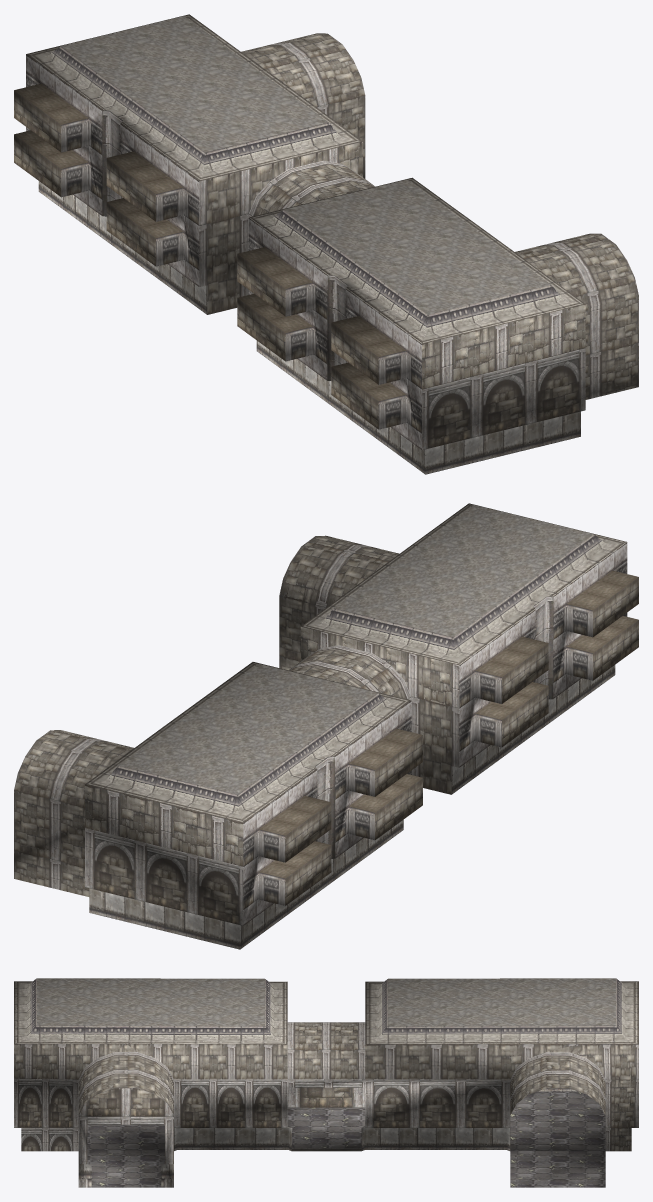
File: stormwind_145.fbx
3 views of the same model, one above another, from view 1: azimuth 30°, elevation 25°; view 2: azimuth 150°, elevation 25°; view 3: azimuth 270°, elevation 25° (orthographic). The views are drawn at different scales.
Parts seen in each view (by area): view 1: stormwind_145_159, stormwind_145_161, stormwind_145_153, stormwind_145_163, stormwind_145_152, stormwind_145_162, stormwind_145_154, stormwind_145_155; view 2: stormwind_145_159, stormwind_145_161, stormwind_145_153, stormwind_145_163, stormwind_145_152, stormwind_145_162, stormwind_145_154, stormwind_145_155; view 3: stormwind_145_159, stormwind_145_152, stormwind_145_161, stormwind_145_157, stormwind_145_153, stormwind_145_154.
Part boxes in pixels (x1,y1,x2,y2): stormwind_145_159: (199,33,638,399); stormwind_145_161: (61,16,550,314); stormwind_145_153: (26,14,584,343); stormwind_145_163: (26,54,421,449); stormwind_145_152: (102,110,585,449); stormwind_145_162: (14,90,378,429); stormwind_145_154: (38,181,580,474); stormwind_145_155: (14,83,405,401); stormwind_145_159: (14,535,459,896); stormwind_145_161: (118,505,593,794); stormwind_145_153: (85,503,626,822); stormwind_145_163: (243,542,627,925); stormwind_145_152: (85,596,553,925); stormwind_145_162: (285,577,638,905); stormwind_145_154: (89,665,615,949); stormwind_145_155: (259,570,638,878); stormwind_145_159: (14,1022,638,1151); stormwind_145_152: (14,1078,510,1164); stormwind_145_161: (37,978,615,1026); stormwind_145_157: (87,1091,605,1187); stormwind_145_153: (14,978,638,1044); stormwind_145_154: (78,1088,577,1187).
Bounding box in the file's own units: 19 × 9.53 × 45.67.
